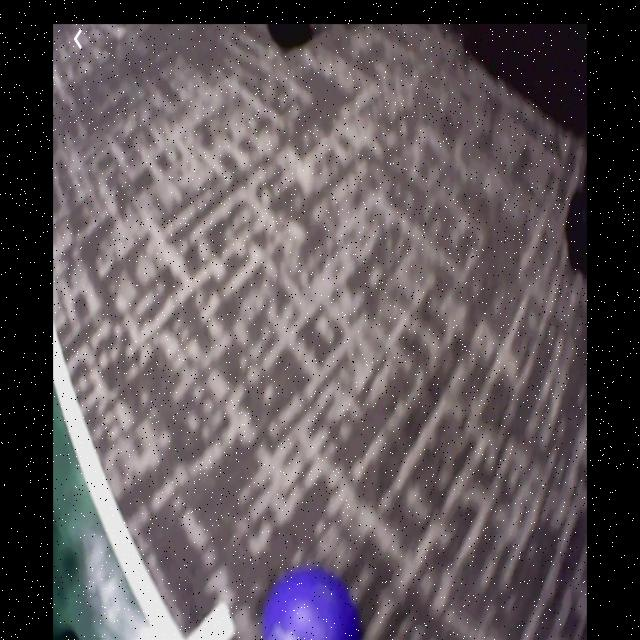ball: (263, 570, 364, 640)
